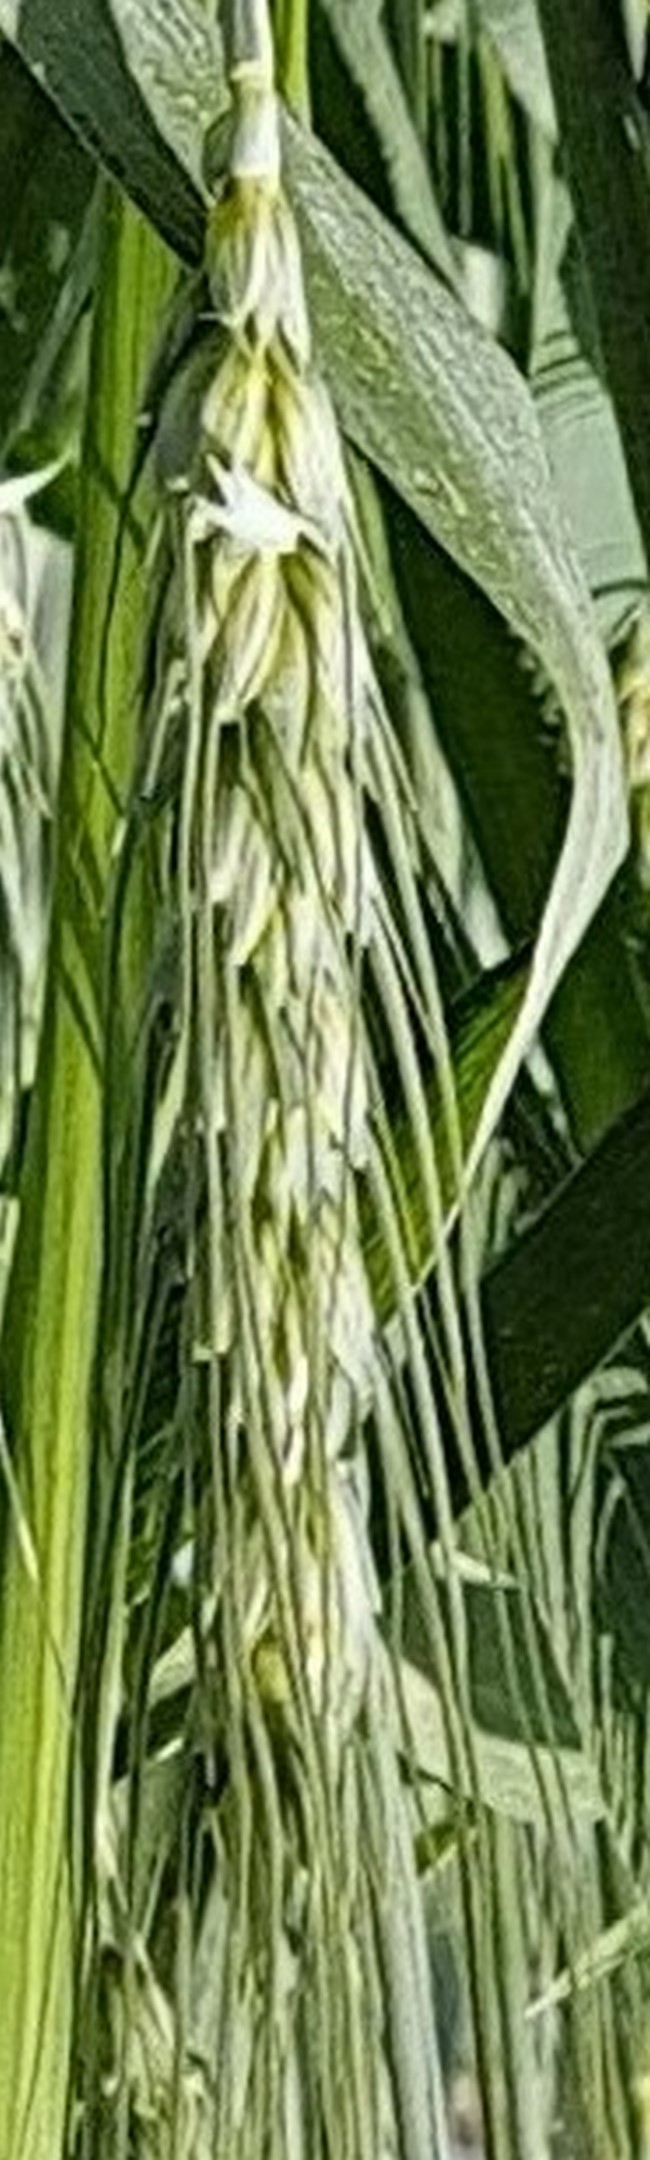Healthy Wheat: (135, 185, 424, 1772)
